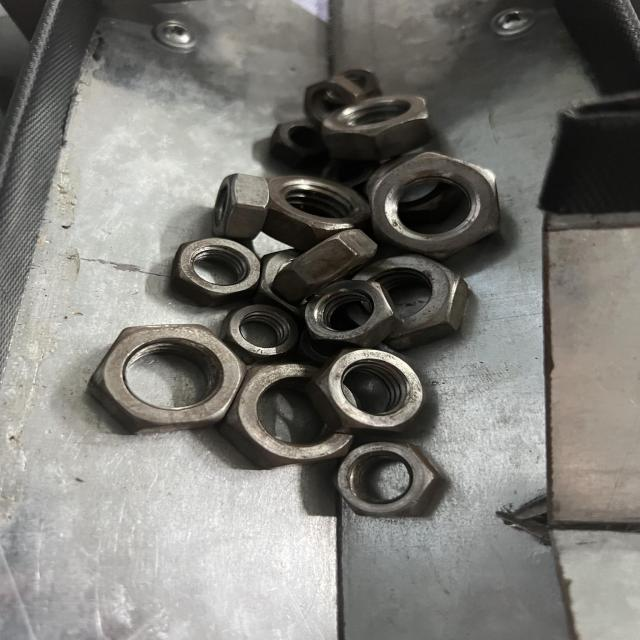nut: (88, 324, 247, 434), (368, 152, 501, 260), (319, 347, 432, 432), (333, 441, 447, 519), (320, 96, 436, 152), (172, 238, 262, 305)
